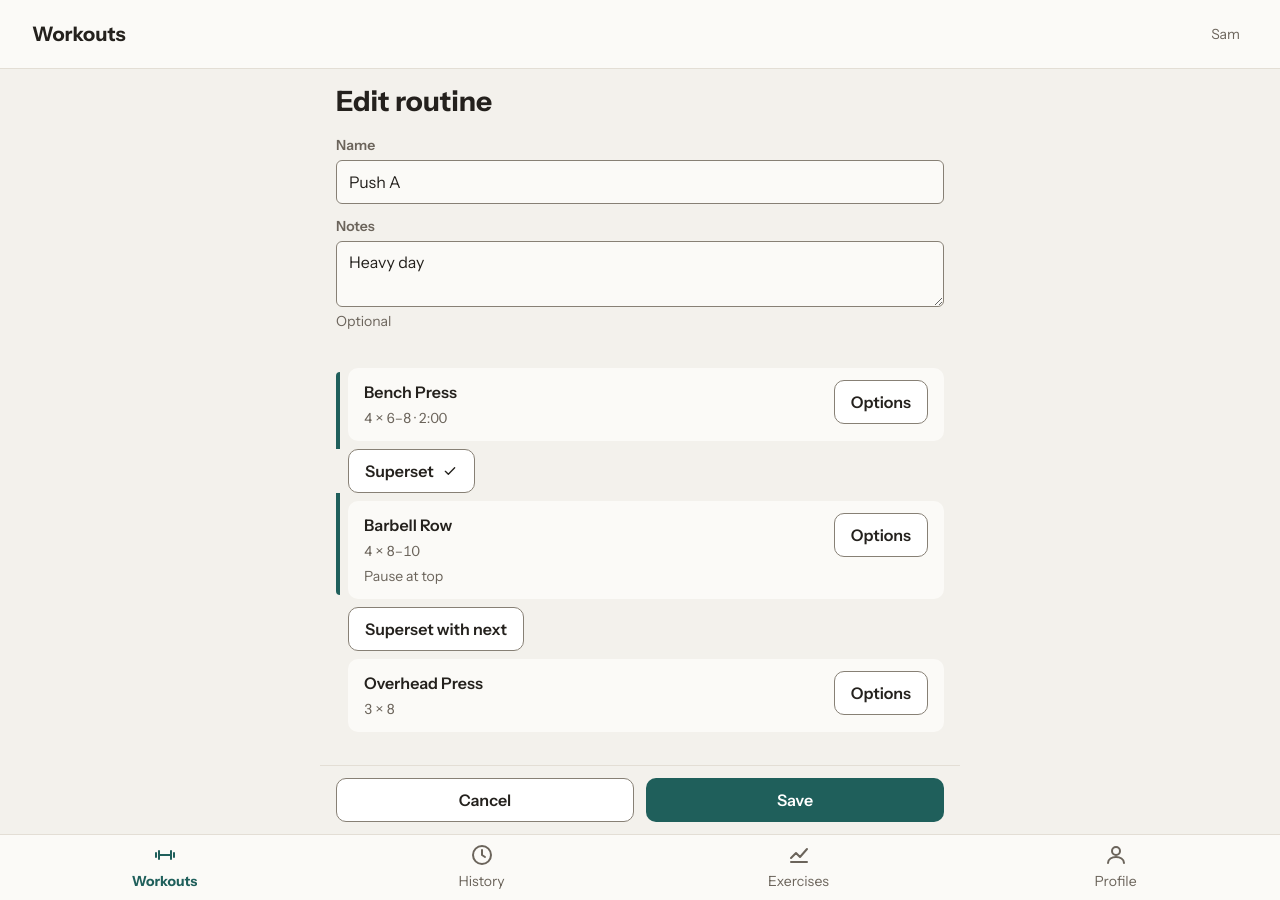
10.2 AC15 — the weight is in the row summary › typing a weight on the quick line updates the row line after Done
Click the button "Overhead Press 3 × 8".
click(423, 683)  # box [364,671,822,720]
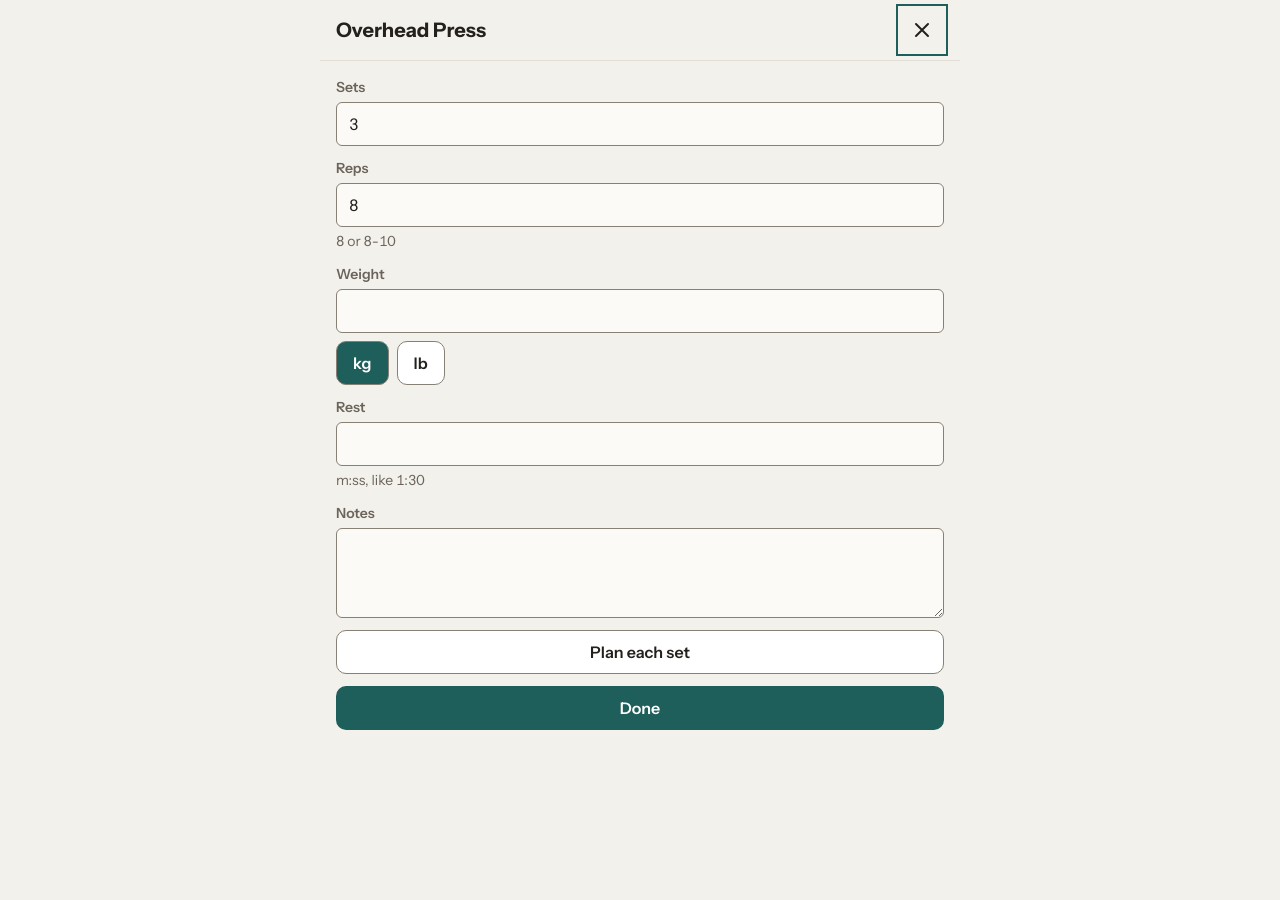
Type "42.5" into the field labelled "Weight".
click(640, 311); type("42.5")  # box [336,289,944,333]
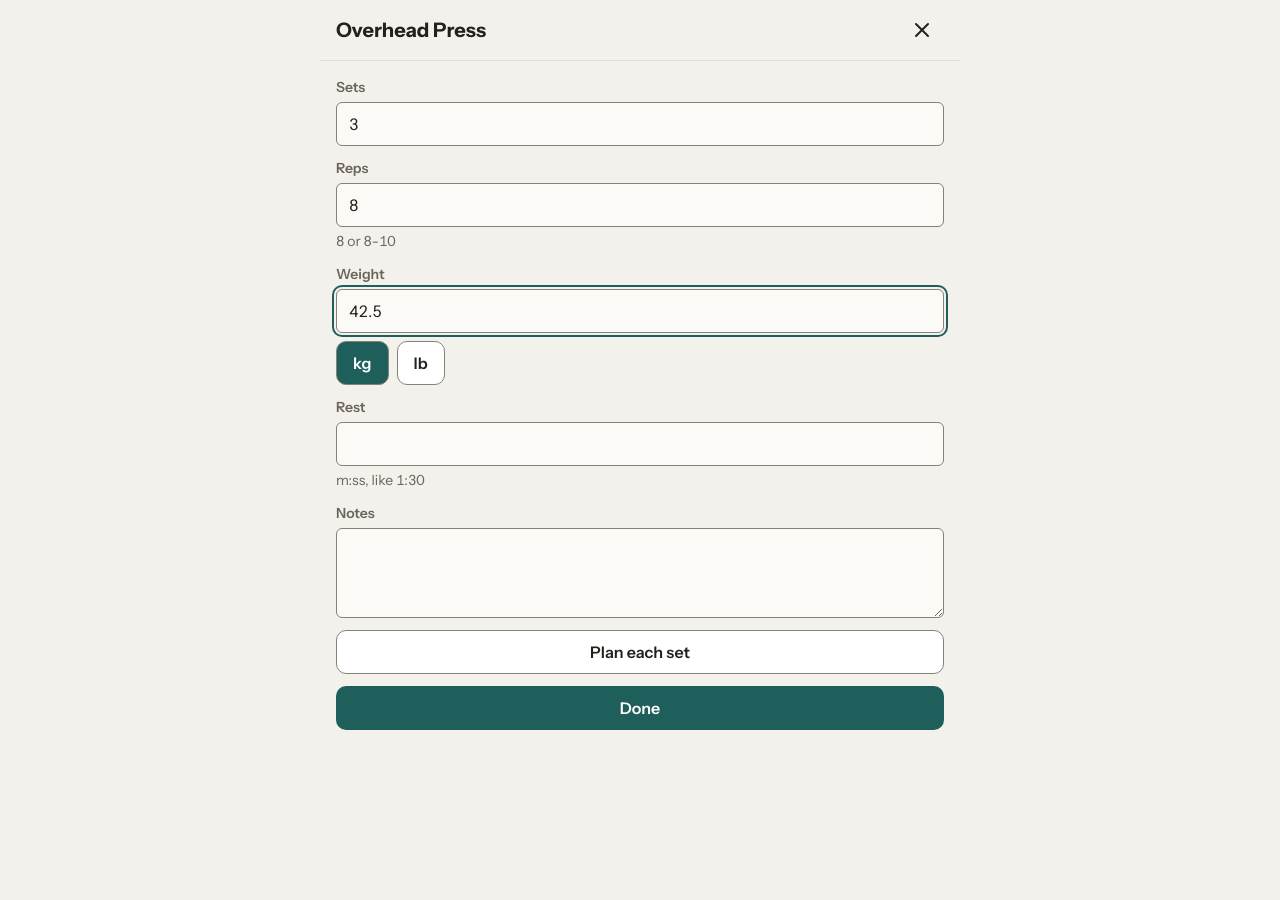
Click the button "Done".
click(640, 708)  # box [336,686,944,730]
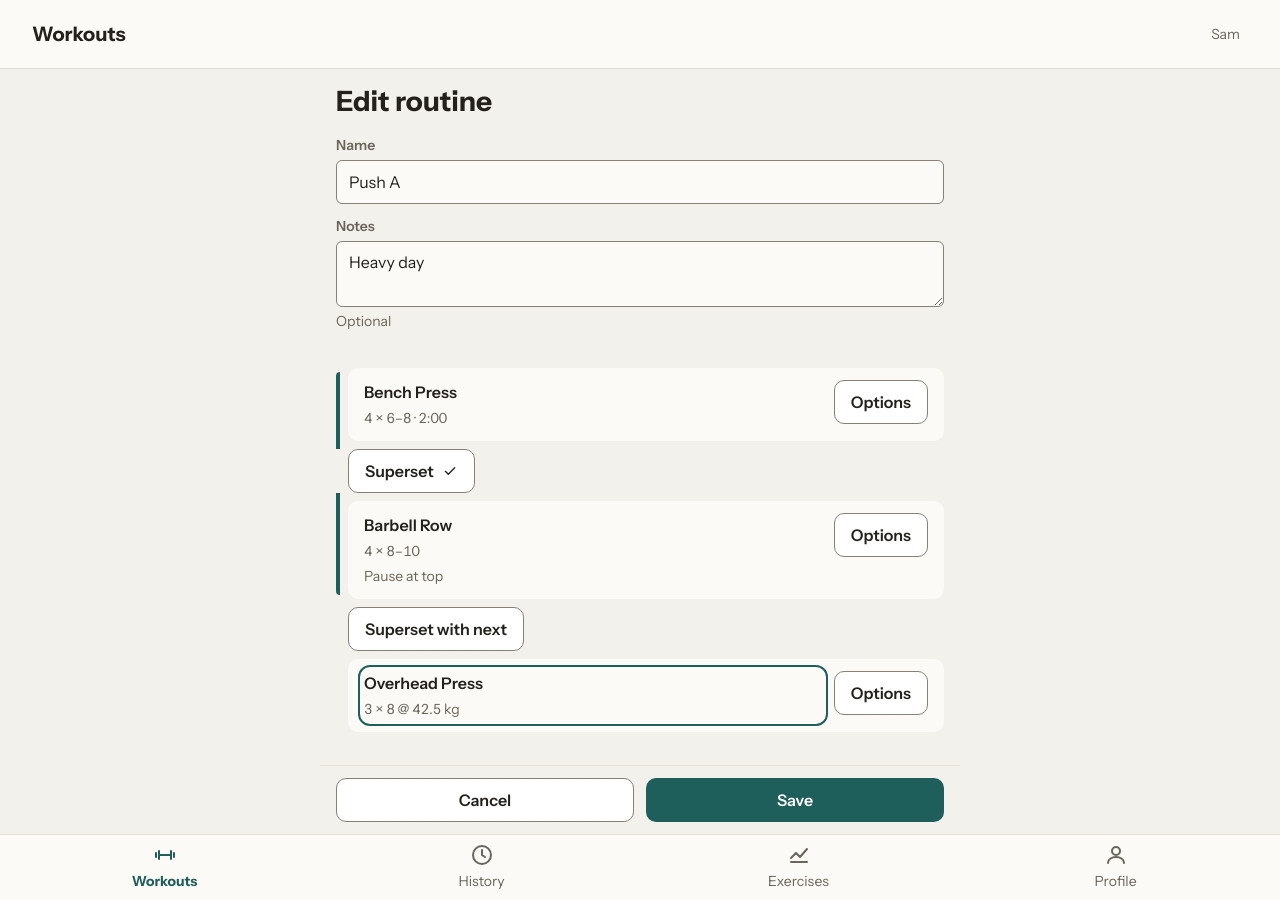
Result: the button with aria-label "Overhead Press, 3 × 8 @ 42.5 kg" is shown at [364,671,822,720]
